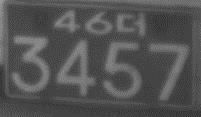3: (11, 34, 51, 93)
4: (55, 37, 97, 97), (53, 8, 80, 33)
5: (101, 40, 142, 100)
6: (84, 9, 112, 34)
7: (148, 41, 192, 102)
더: (116, 11, 146, 38)
